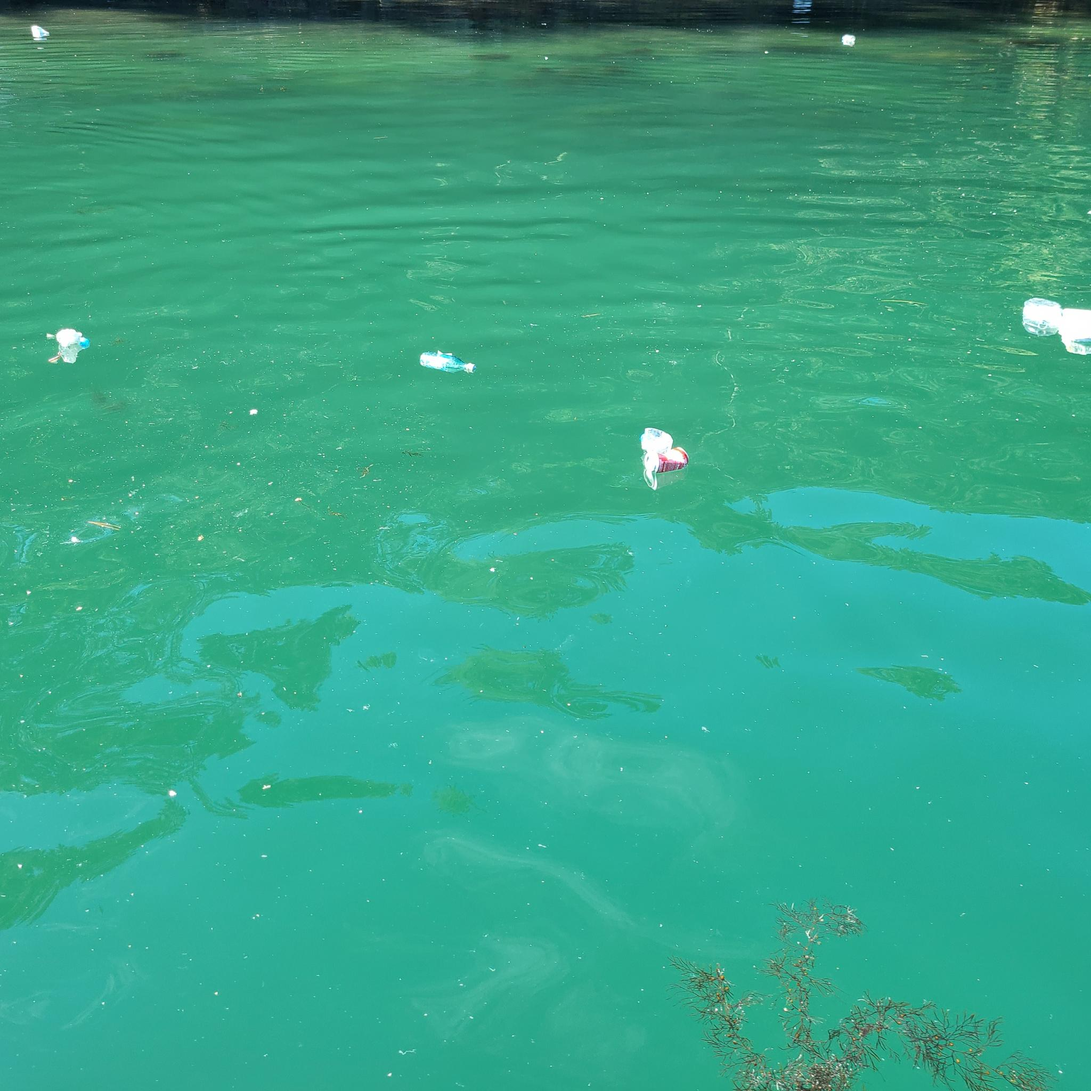sampah_terapung: (1022, 298, 1063, 330), (640, 428, 673, 466), (420, 352, 476, 373), (645, 448, 690, 474), (57, 329, 92, 349)
